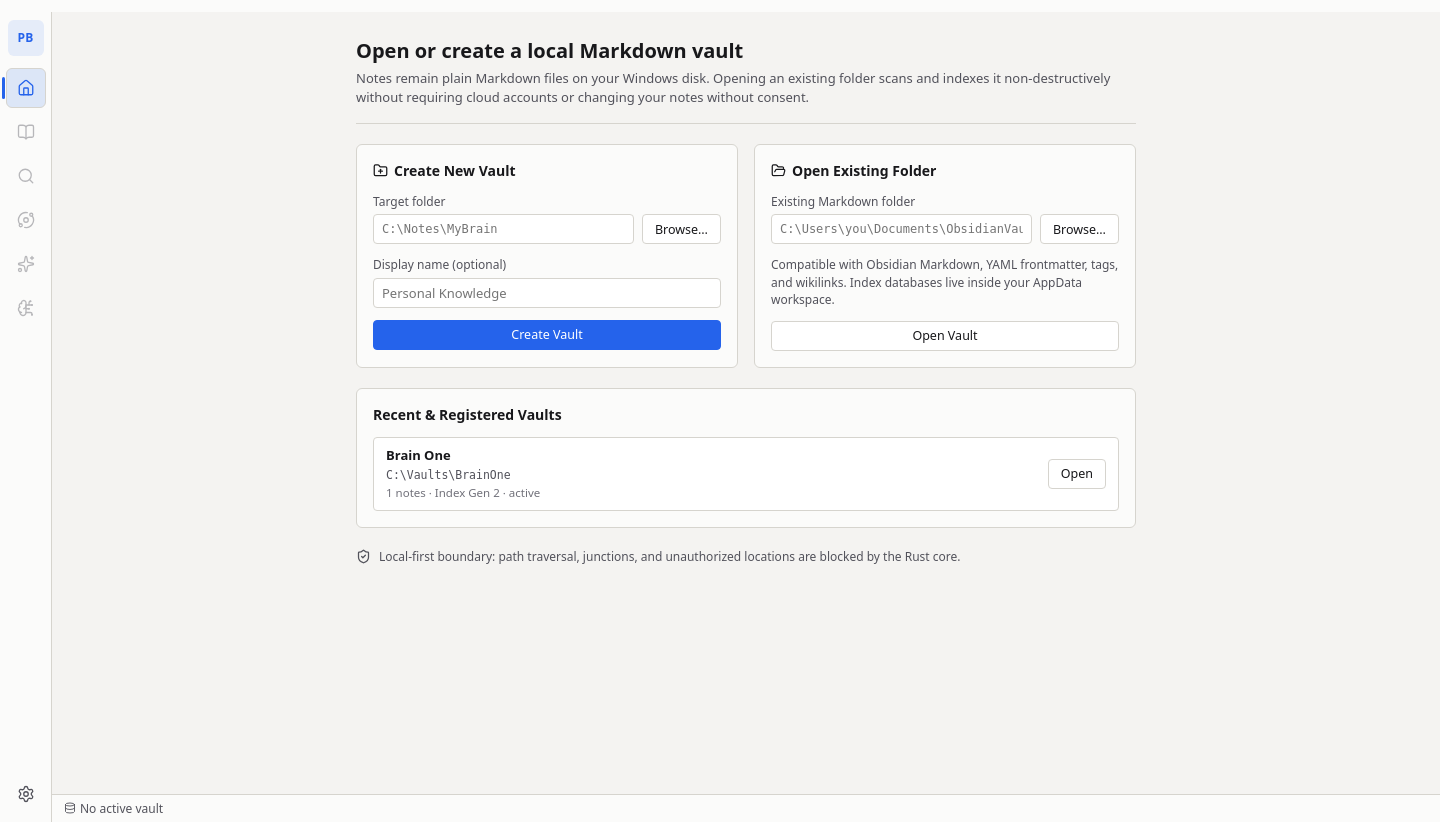
App desktop shell, durable drafts & Universe navigation › enters non-destructive Conflict mode when restoring a stale-base durable draft
The width and height of the screenshot is (1440, 822).
Click the button "Open". click: (1077,474)
box: x1=1048 y1=459 x2=1106 y2=489
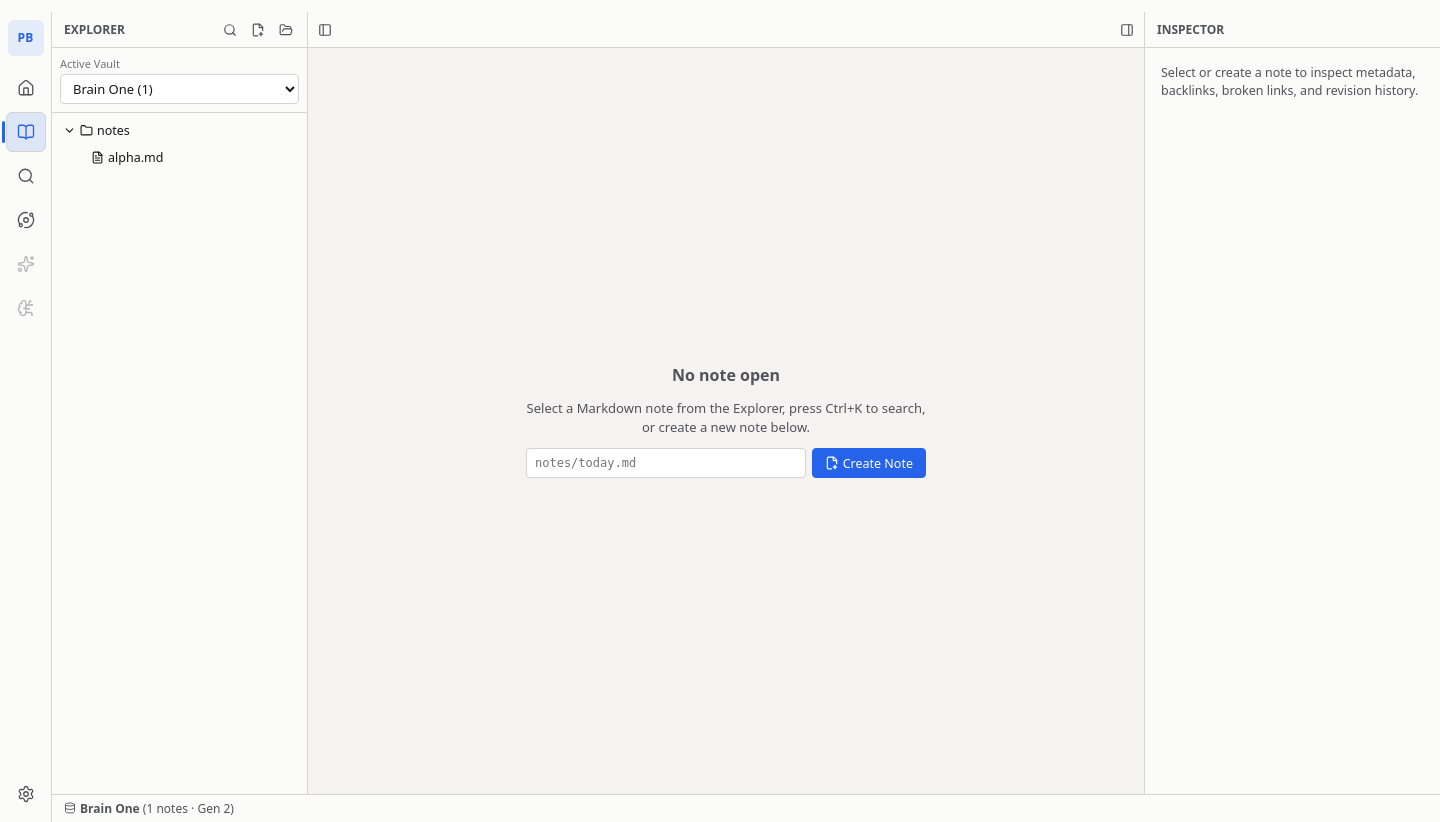
expect the text "alpha.md" is shown: met, box x1=108 y1=149 x2=163 y2=166
Click the button "alpha.md". click: (180,157)
box: x1=56 y1=144 x2=303 y2=171
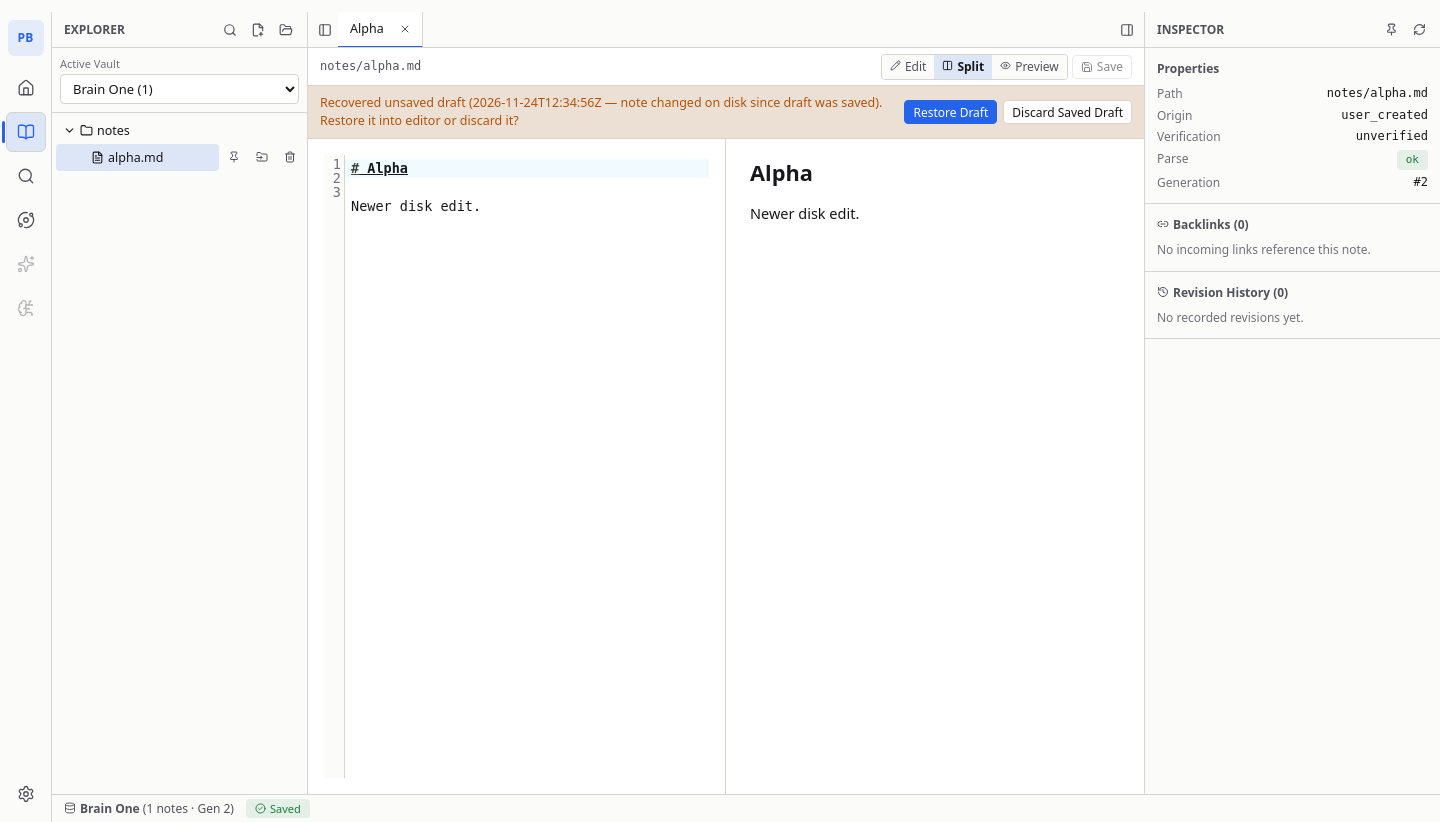
expect the button "Restore Draft" is shown: met
Click the button "Restore Draft". click: (951,112)
box: x1=904 y1=100 x2=997 y2=124
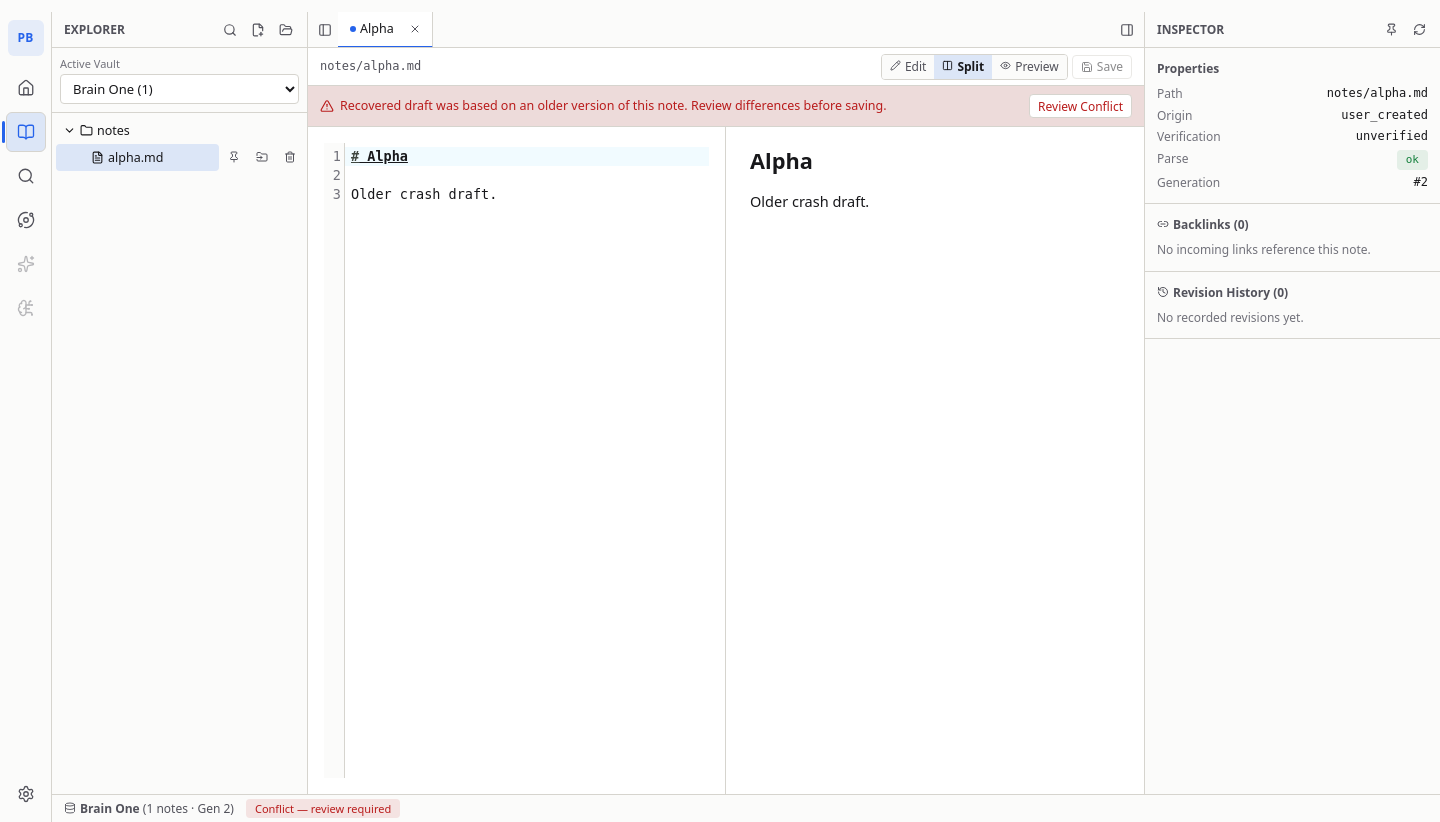
expect the button "Save" is disabled: met, box x1=1072 y1=54 x2=1132 y2=78
expect the button "Review Conflict" is shown: met, box x1=1029 y1=94 x2=1132 y2=118
